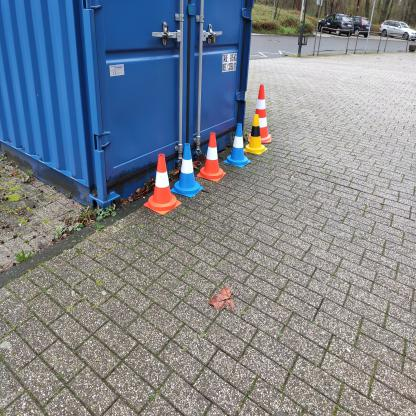Cones_big: (251, 86, 274, 142)
Cones_small_blue: (170, 142, 208, 200), (225, 122, 254, 168)
Cones_small_orange: (144, 151, 184, 219), (195, 130, 229, 184)
Cones_small_yellow: (245, 113, 271, 155)
